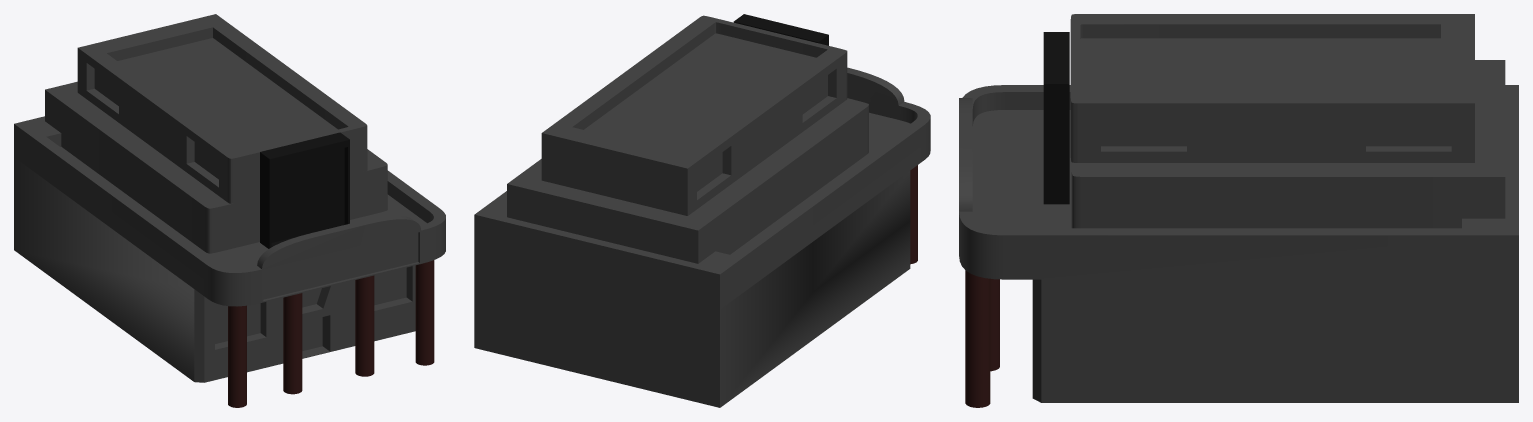
Rendered from nightclub test.fbx.
The picture shows the model from 3 angles, left to right: view 1: azimuth 30°, elevation 25°; view 2: azimuth 150°, elevation 25°; view 3: azimuth 270°, elevation 25°; orthographic projection. The views are drawn at different scales.
Parts seen in each view (by area): view 1: Box001, Box002, Cylinder001, Cylinder002, Cylinder003, Cylinder004; view 2: Box001, Box002, Cylinder004; view 3: Box001, Box002, Cylinder001, Cylinder002.
Boxes of the visible parts, x1,y1,x2,y2 form: Box001: (14, 14, 445, 382); Box002: (260, 132, 349, 248); Cylinder001: (415, 260, 434, 365); Cylinder002: (355, 275, 374, 376); Cylinder003: (283, 293, 302, 394); Cylinder004: (228, 305, 246, 407); Box001: (474, 15, 930, 407); Box002: (733, 14, 828, 45); Cylinder004: (910, 165, 917, 264); Box001: (959, 14, 1518, 402); Box002: (1043, 32, 1069, 204); Cylinder001: (965, 270, 990, 407); Cylinder002: (990, 278, 999, 371).
Size of the model in its own units: 141 by 125 by 222.
